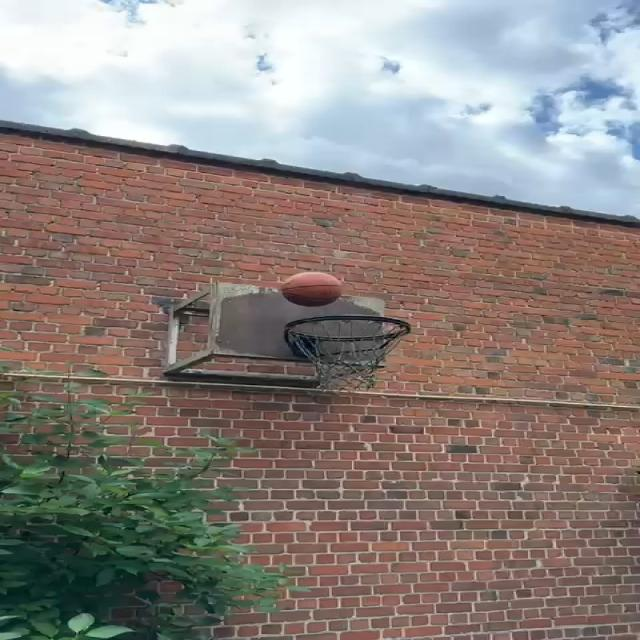Basketball: (283, 272, 342, 308)
